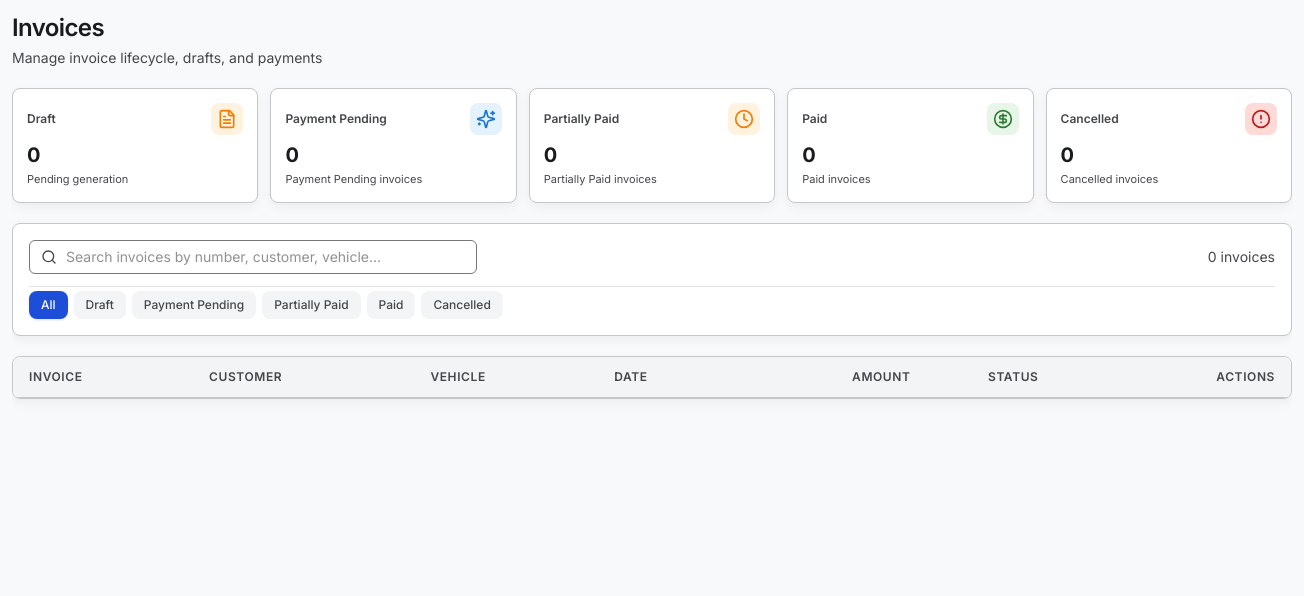
it: Invoices List Component & Status Display › Invoice Search Enhancements (Job Card Number Support) › displays empty state when search returns no matching invoices
Type "NONEXISTENT" into the field with placeholder "Search invoices by number, customer, vehicle..." at coordinates (253, 256), box [29, 240, 477, 274]
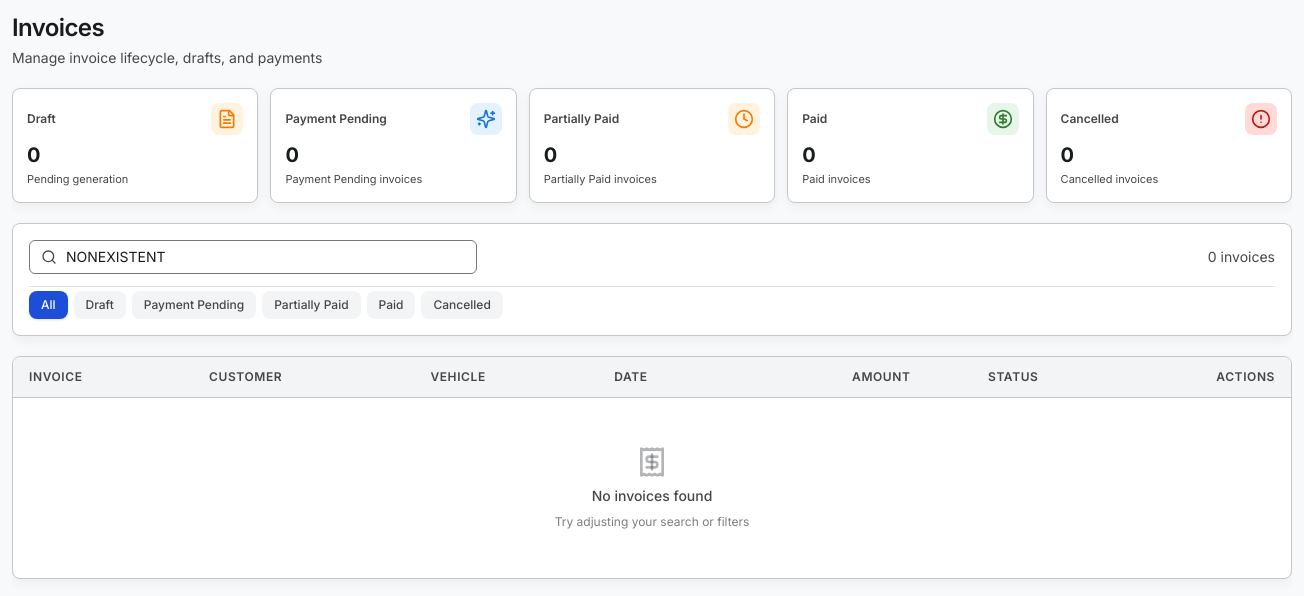
Now the text "No invoices found" is shown, box [592, 486, 712, 506]
Now the text "Try adjusting your search or filters" is shown, box [555, 514, 749, 530]
